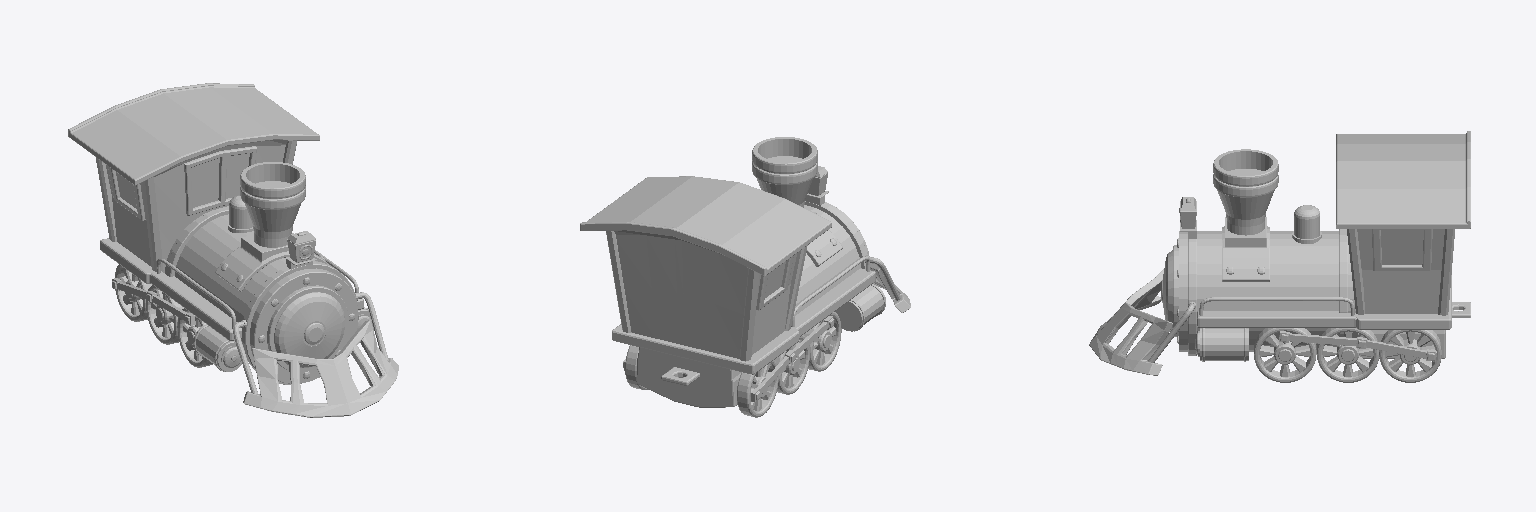
File: train.obj
3 views of the same model, side by side, from view 1: azimuth 30°, elevation 25°; view 2: azimuth 150°, elevation 25°; view 3: azimuth 270°, elevation 25° (orthographic).
Visible parts, largest first — view 1: cabine, nez, devant, cheminer, sol, socle_cheminer, nez.003, roue.003, roue.004, poutre, roue.005, truc.001 (+3 smaller); view 2: cabine, sol, cheminer, nez, nez.003, roue.004, roue.005, poutre.003, roue.003, truc.001, poutre.002, socle_cheminer (+2 smaller); view 3: cabine, nez, sol, cheminer, devant, roue, socle_cheminer, roue.002, roue.001, nez.002, truc, lampe (+4 smaller).
Boxes of the visible parts, <box> form: cabine: <box>68,83,319,269</box>; nez: <box>165,206,358,384</box>; devant: <box>243,320,398,417</box>; cheminer: <box>240,162,305,247</box>; sol: <box>100,238,363,340</box>; socle_cheminer: <box>215,233,328,291</box>; nez.003: <box>193,324,241,371</box>; roue.003: <box>146,285,183,344</box>; roue.004: <box>115,264,151,321</box>; poutre: <box>143,177,163,271</box>; roue.005: <box>177,308,212,367</box>; truc.001: <box>112,278,195,325</box>; cabine: <box>580,176,831,358</box>; sol: <box>612,268,875,407</box>; cheminer: <box>752,137,817,207</box>; nez: <box>795,201,868,315</box>; nez.003: <box>835,284,885,331</box>; roue.004: <box>737,360,778,417</box>; roue.005: <box>803,312,841,371</box>; poutre.003: <box>740,268,759,361</box>; roue.003: <box>775,335,809,394</box>; truc.001: <box>751,316,833,401</box>; poutre.002: <box>606,231,631,332</box>; socle_cheminer: <box>806,211,842,266</box>; cabine: <box>1336,131,1470,313</box>; nez: <box>1161,229,1357,355</box>; sol: <box>1197,275,1470,358</box>; cheminer: <box>1213,149,1278,235</box>; devant: <box>1089,269,1172,375</box>; roue: <box>1254,328,1316,382</box>; socle_cheminer: <box>1222,217,1269,281</box>; roue.002: <box>1317,328,1378,382</box>; roue.001: <box>1379,330,1441,382</box>; nez.002: <box>1195,328,1248,361</box>; truc: <box>1279,331,1436,361</box>; lampe: <box>1292,205,1321,243</box>.
Bounding box in the file's own units: 5.3 × 5.31 × 9.48.